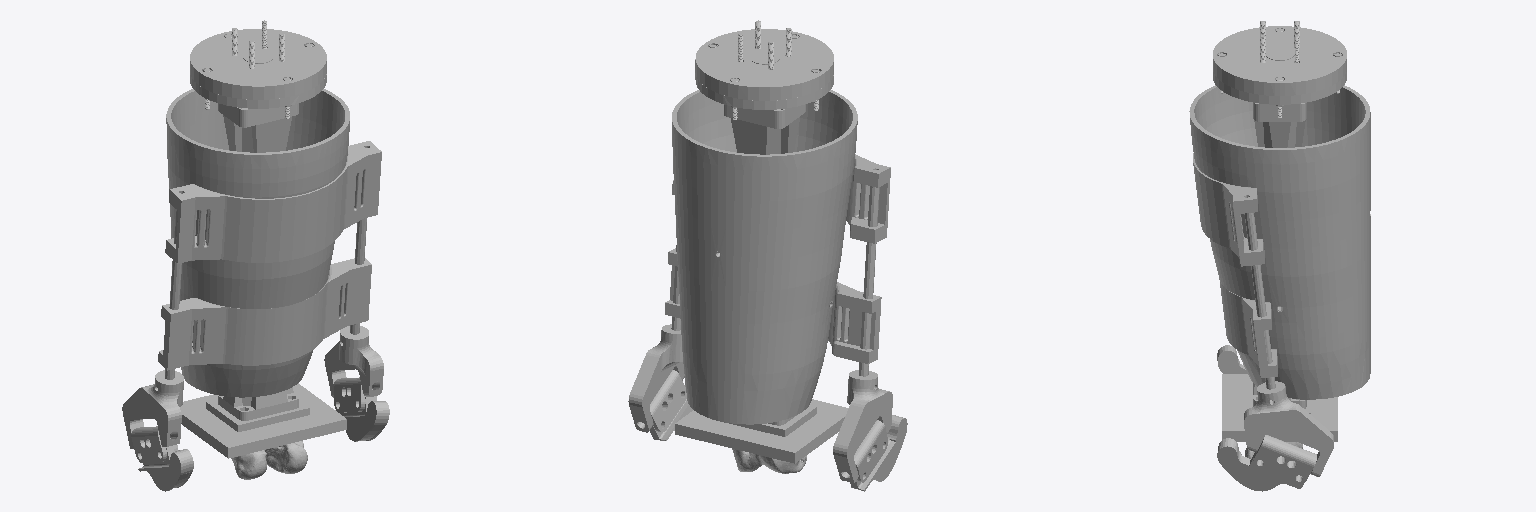
robot.urdf — brace_top_setup_brace:
<?xml version="1.0" encoding="utf-8"?>
<!-- This URDF was automatically created by SolidWorks to URDF Exporter! Originally created by [author] ([email redacted]) 
     Commit Version: 1.6.0-4-g7f85cfe  Build Version: 1.6.7995.38578
     For more information, please see http://wiki.ros.org/sw_urdf_exporter -->
<robot
  name="brace_top_setup_brace">
  <link
    name="base_link">
    <inertial>
      <origin
        xyz="-0.0498573843089855 0.00713263565830882 -0.0125487265402909"
        rpy="0 0 0" />
      <mass
        value="0.386438799959442" />
      <inertia
        ixx="0.000471338529778752"
        ixy="1.63576581446922E-15"
        ixz="-9.03892607358201E-15"
        iyy="0.00047133852961369"
        iyz="-1.45977409948938E-14"
        izz="0.000928527510763369" />
    </inertial>
    <visual>
      <origin
        xyz="0 0 0"
        rpy="0 0 0" />
      <geometry>
        <mesh
          filename="package://brace_top_setup_brace/meshes/base_link.STL" />
      </geometry>
      <material
        name="">
        <color
          rgba="0.752941176470588 0.752941176470588 0.752941176470588 1" />
      </material>
    </visual>
    <collision>
      <origin
        xyz="0 0 0"
        rpy="0 0 0" />
      <geometry>
        <mesh
          filename="package://brace_top_setup_brace/meshes/base_link.STL" />
      </geometry>
    </collision>
  </link>
  <link
    name="Link1">
    <inertial>
      <origin
        xyz="1.13952477108076E-05 6.09143122679706E-06 -0.0077500800790293"
        rpy="0 0 0" />
      <mass
        value="0.144521976607446" />
      <inertia
        ixx="2.31497032446631E-05"
        ixy="3.3256520782438E-08"
        ixz="-2.70019071304131E-09"
        iyy="2.31765300111381E-05"
        iyz="-1.83348553501675E-08"
        izz="3.9908935373895E-05" />
    </inertial>
    <visual>
      <origin
        xyz="0 0 0"
        rpy="0 0 0" />
      <geometry>
        <mesh
          filename="package://brace_top_setup_brace/meshes/Link1.STL" />
      </geometry>
      <material
        name="">
        <color
          rgba="0.776470588235294 0.756862745098039 0.737254901960784 1" />
      </material>
    </visual>
    <collision>
      <origin
        xyz="0 0 0"
        rpy="0 0 0" />
      <geometry>
        <mesh
          filename="package://brace_top_setup_brace/meshes/Link1.STL" />
      </geometry>
    </collision>
  </link>
  <joint
    name="Joint1"
    type="fixed">
    <origin
      xyz="-0.0498356367802294 0.00715438320185739 -0.0251410214689495"
      rpy="0 0 0" />
    <parent
      link="base_link" />
    <child
      link="Link1" />
    <axis
      xyz="0 0 0" />
  </joint>
  <link
    name="Link2">
    <inertial>
      <origin
        xyz="-0.000515742617041071 -0.0019117175414013 0.160100467461824"
        rpy="0 0 0" />
      <mass
        value="2.41531493094664" />
      <inertia
        ixx="0.0125707663872532"
        ixy="-6.91223218268743E-07"
        ixz="-6.20655713000137E-07"
        iyy="0.0145124259164317"
        iyz="0.000765532979461278"
        izz="0.00943073849077892" />
    </inertial>
    <visual>
      <origin
        xyz="0 0 0"
        rpy="0 0 0" />
      <geometry>
        <mesh
          filename="package://brace_top_setup_brace/meshes/Link2.STL" />
      </geometry>
      <material
        name="">
        <color
          rgba="0.752941176470588 0.752941176470588 0.752941176470588 1" />
      </material>
    </visual>
    <collision>
      <origin
        xyz="0 0 0"
        rpy="0 0 0" />
      <geometry>
        <mesh
          filename="package://brace_top_setup_brace/meshes/Link2.STL" />
      </geometry>
    </collision>
  </link>
  <joint
    name="Joint2"
    type="fixed">
    <origin
      xyz="0 0 -0.385747999999974"
      rpy="0 0 0" />
    <parent
      link="Link1" />
    <child
      link="Link2" />
    <axis
      xyz="0 0 0" />
  </joint>
</robot>

--- Render facts (derived) ---
3 views of the same robot in one strip: view 1: azimuth 30°, elevation 25°; view 2: azimuth 150°, elevation 25°; view 3: azimuth 270°, elevation 25° (orthographic).
Model brace_top_setup_brace with 3 links and 2 joints (2 fixed), rooted at base_link, posed every joint at zero.
Links seen in each view (by area): view 1: Link2, base_link; view 2: Link2, base_link; view 3: Link2, base_link.
Boxes of the visible links, x1=… form: Link2: x1=122, y1=89, x2=389, y2=491; base_link: x1=190, y1=20, x2=326, y2=118; Link2: x1=628, y1=90, x2=907, y2=491; base_link: x1=695, y1=20, x2=833, y2=119; Link2: x1=1189, y1=85, x2=1370, y2=491; base_link: x1=1213, y1=21, x2=1346, y2=117.
Bounding box of the posed robot: 0.2575 × 0.1878 × 0.4972 m (x, y, z).
Meshes: 3 distinct files referenced, 3 mesh visuals loaded (3 binary STL).